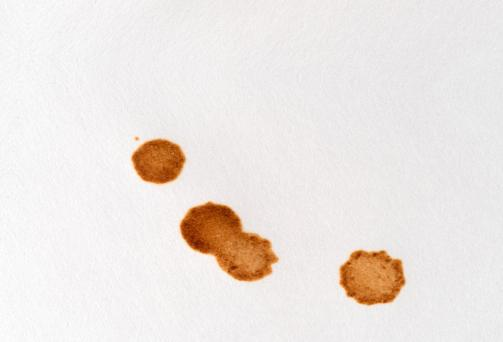stain: (178, 199, 281, 282), (337, 245, 411, 308), (127, 130, 193, 187)
